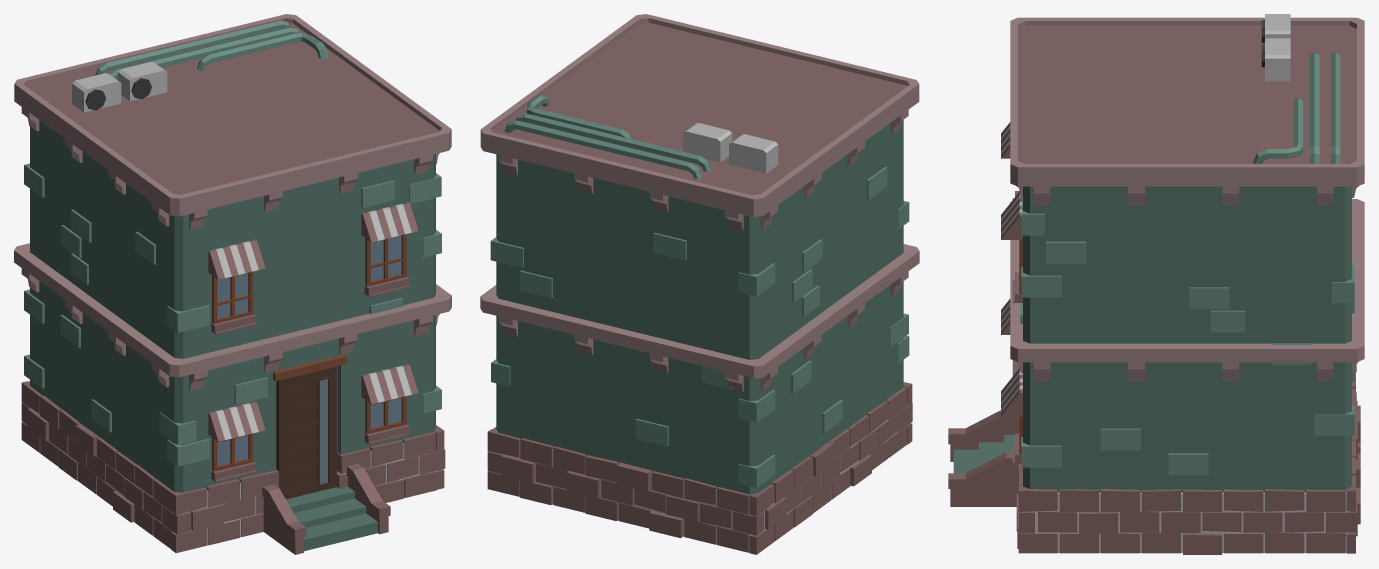
The model's file is 2Story_Mat.glb.
3 renders of one model, left to right at view 1: azimuth 30°, elevation 25°; view 2: azimuth 150°, elevation 25°; view 3: azimuth 270°, elevation 25°, orthographic. The views are drawn at different scales.
Parts seen in each view (by area): view 1: 2Story_Mat; view 2: 2Story_Mat; view 3: 2Story_Mat.
Part boxes in pixels (x1,y1,x2,y2): 2Story_Mat: [14, 14, 451, 554]; 2Story_Mat: [480, 14, 919, 554]; 2Story_Mat: [948, 14, 1364, 554].
Size of the model in its own units: 2.16 by 2.75 by 2.53.
